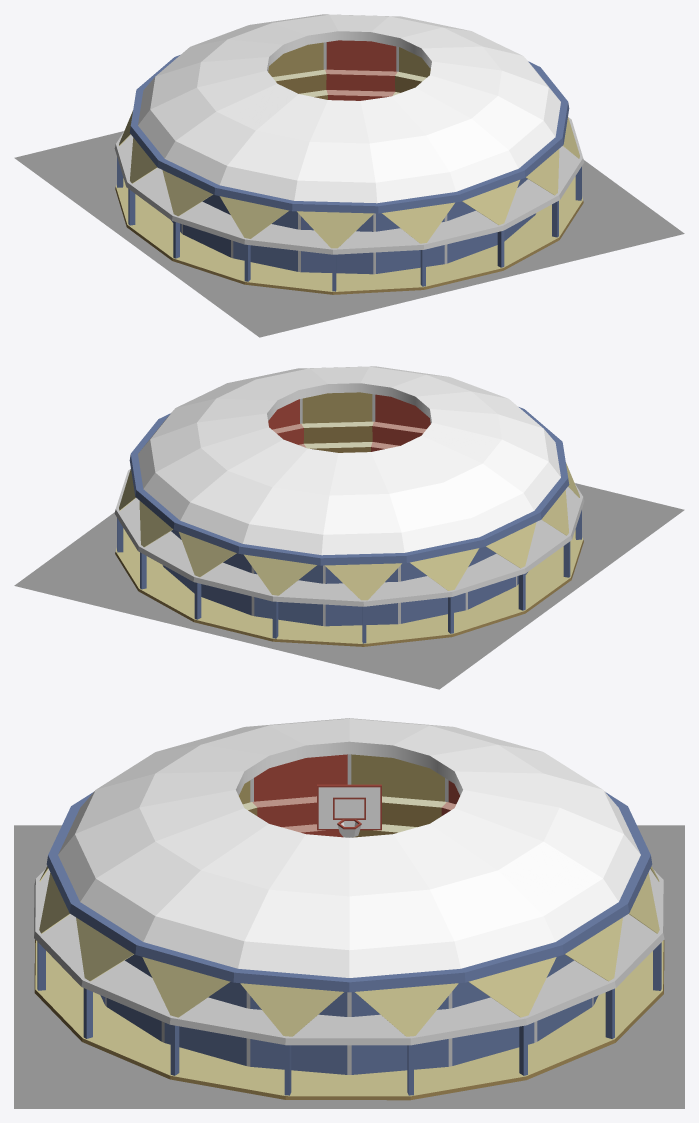
Rendered from stadium_007.fbx.
The picture shows the model from 3 angles, top to bottom: view 1: azimuth 30°, elevation 25°; view 2: azimuth 150°, elevation 25°; view 3: azimuth 270°, elevation 25°; orthographic projection. The views are drawn at different scales.
Visible parts, largest first — view 1: stadium_007; view 2: stadium_007; view 3: stadium_007.
Part boxes in pixels (box(x1,y1,x2,y2)): stadium_007: box(14, 14, 684, 337); stadium_007: box(14, 366, 684, 689); stadium_007: box(14, 718, 684, 1108).
Bounding box in the file's own units: 1600 × 474 × 1600.
